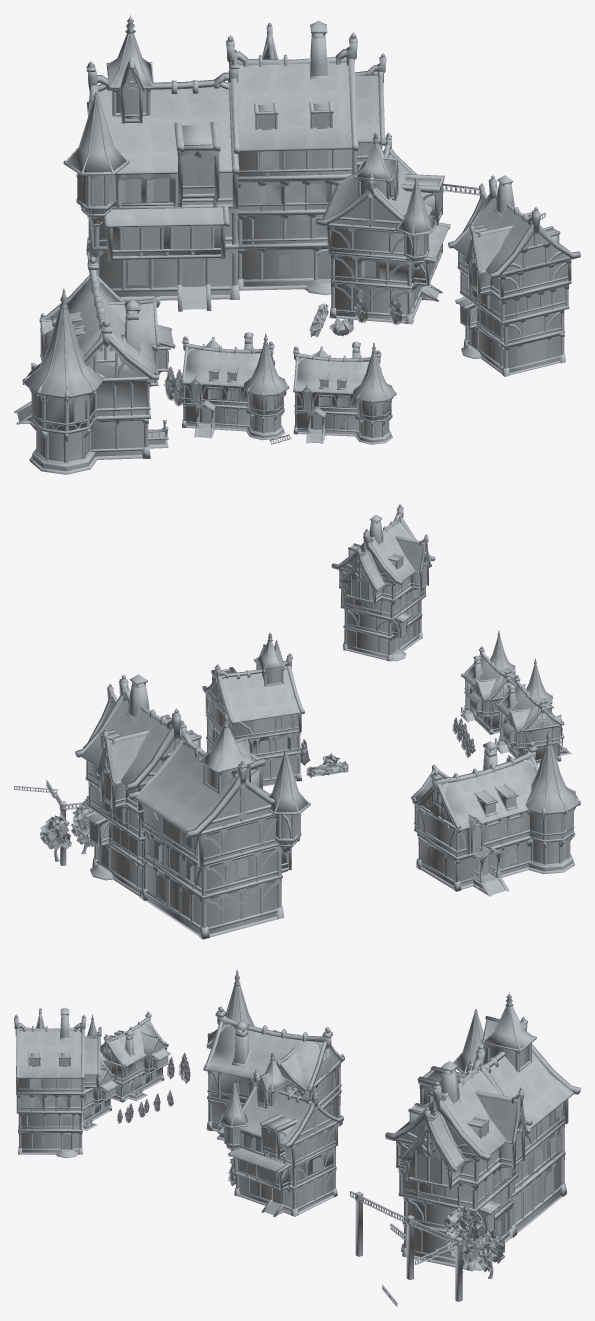
3 views of the same model, one above another, from view 1: azimuth 30°, elevation 25°; view 2: azimuth 150°, elevation 25°; view 3: azimuth 270°, elevation 25° (orthographic). The views are drawn at different scales.
Visible parts, largest first — view 1: nt:*ObjectIndoorScene_Md_KnightOutDoor_MD_CityMDHouseAr_f431; view 2: nt:*ObjectIndoorScene_Md_KnightOutDoor_MD_CityMDHouseAr_f431; view 3: nt:*ObjectIndoorScene_Md_KnightOutDoor_MD_CityMDHouseAr_f431.
Part boxes in pixels (x1,y1,x2,y2): nt:*ObjectIndoorScene_Md_KnightOutDoor_MD_CityMDHouseAr_f431: (14,14,580,474); nt:*ObjectIndoorScene_Md_KnightOutDoor_MD_CityMDHouseAr_f431: (14,504,580,939); nt:*ObjectIndoorScene_Md_KnightOutDoor_MD_CityMDHouseAr_f431: (14,969,580,1306).
Bounding box in the file's own units: 197 × 91.8 × 200.
Materials: 1 (1 with a texture image).
